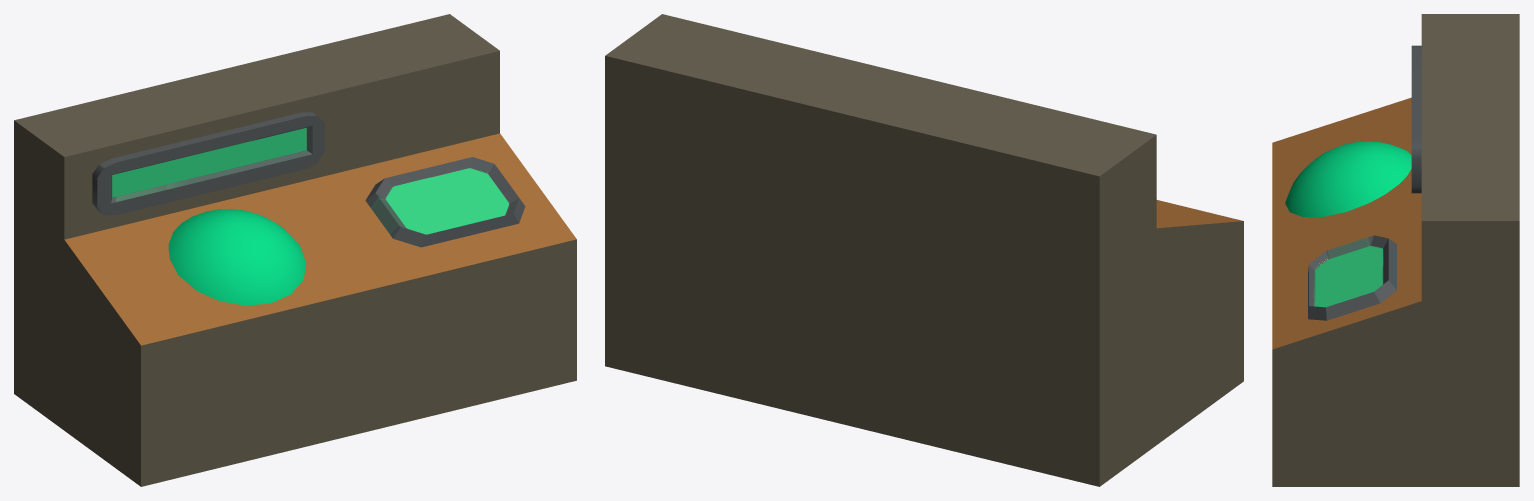
The model's file is Computer.fbx.
3 renders of one model, left to right at view 1: azimuth 30°, elevation 25°; view 2: azimuth 150°, elevation 25°; view 3: azimuth 270°, elevation 25°, orthographic. The views are drawn at different scales.
Visible parts, largest first — view 1: pCube1, pSphere1; view 2: pCube1; view 3: pCube1, pSphere1.
Part boxes in pixels (x1,y1,x2,y2): pCube1: (14, 14, 576, 486); pSphere1: (168, 209, 306, 305); pCube1: (605, 14, 1243, 486); pCube1: (1272, 14, 1519, 486); pSphere1: (1285, 141, 1411, 217).
Size of the model in its own units: 500 by 300 by 253.
2 materials, 1 textured.
